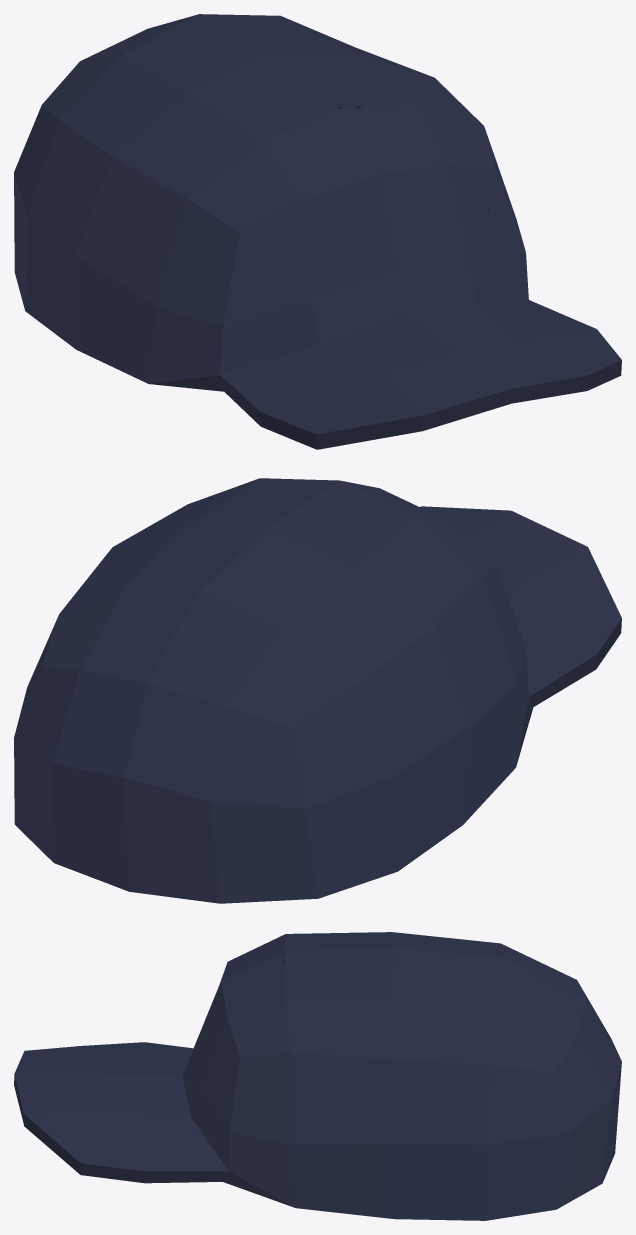
The model's file is Gorra.glb.
3 renders of one model, top to bottom at view 1: azimuth 30°, elevation 25°; view 2: azimuth 150°, elevation 25°; view 3: azimuth 270°, elevation 25°, orthographic. The views are drawn at different scales.
Visible parts, largest first — view 1: Helmet; view 2: Helmet; view 3: Helmet.
Part boxes in pixels (x1=…): Helmet: x1=14, y1=14, x2=621, y2=449; Helmet: x1=14, y1=478, x2=621, y2=903; Helmet: x1=14, y1=932, x2=621, y2=1220.
Bounding box in the file's own units: 0.6127 × 0.3879 × 1.04.
1 material, 1 textured.
